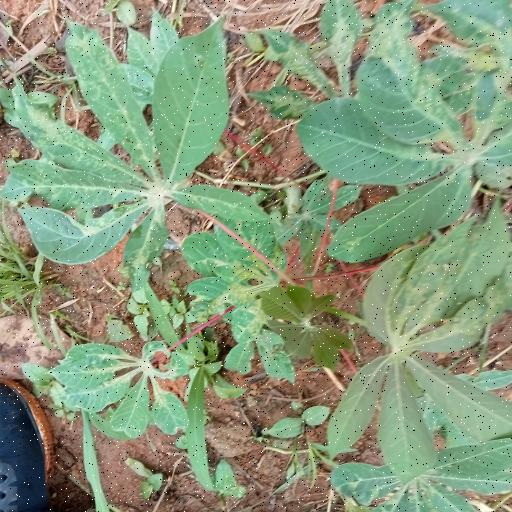Cassava_Mosaic: (20, 27, 232, 260), (329, 20, 512, 255)
